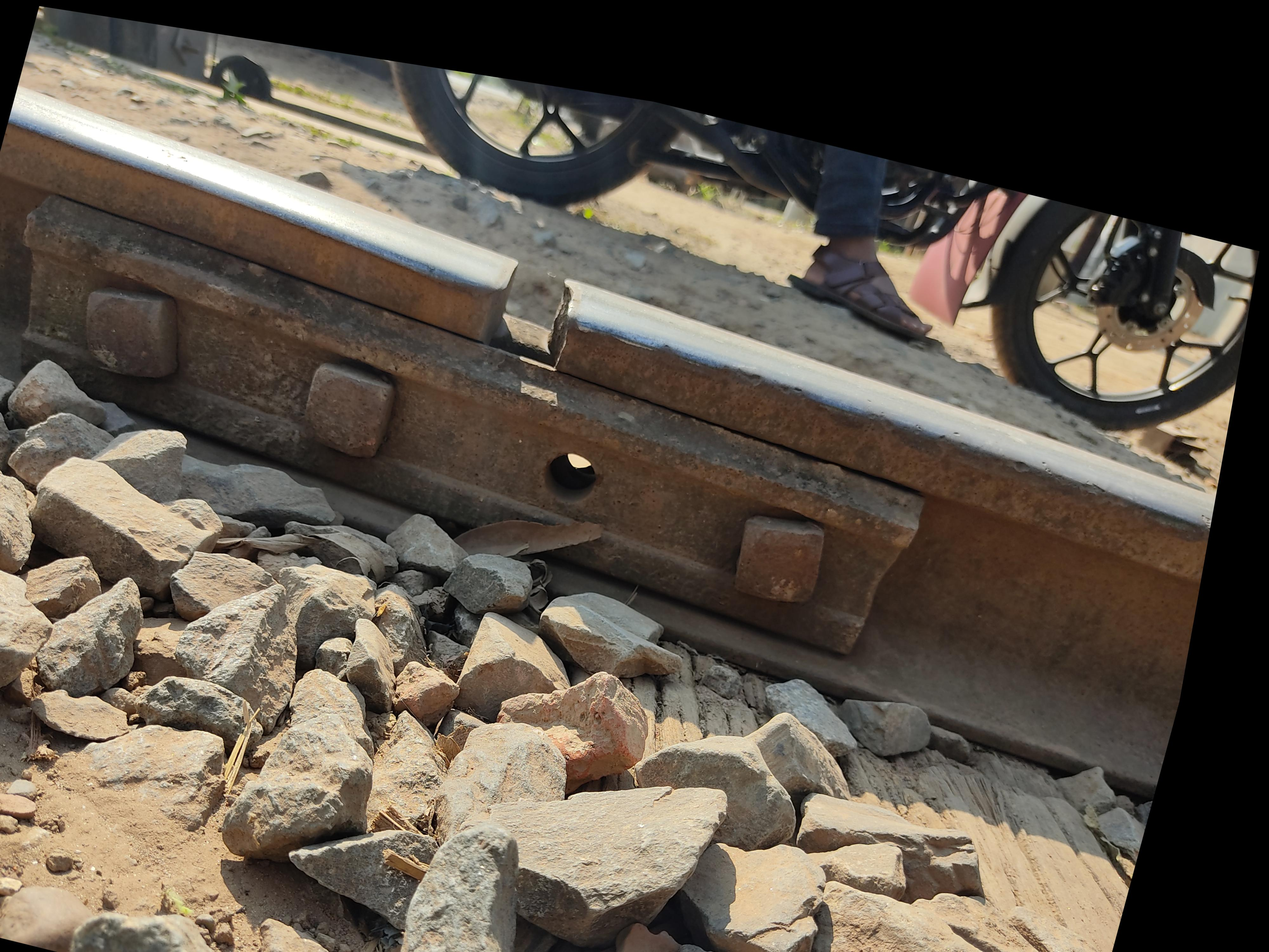person: (491, 157, 688, 354)
